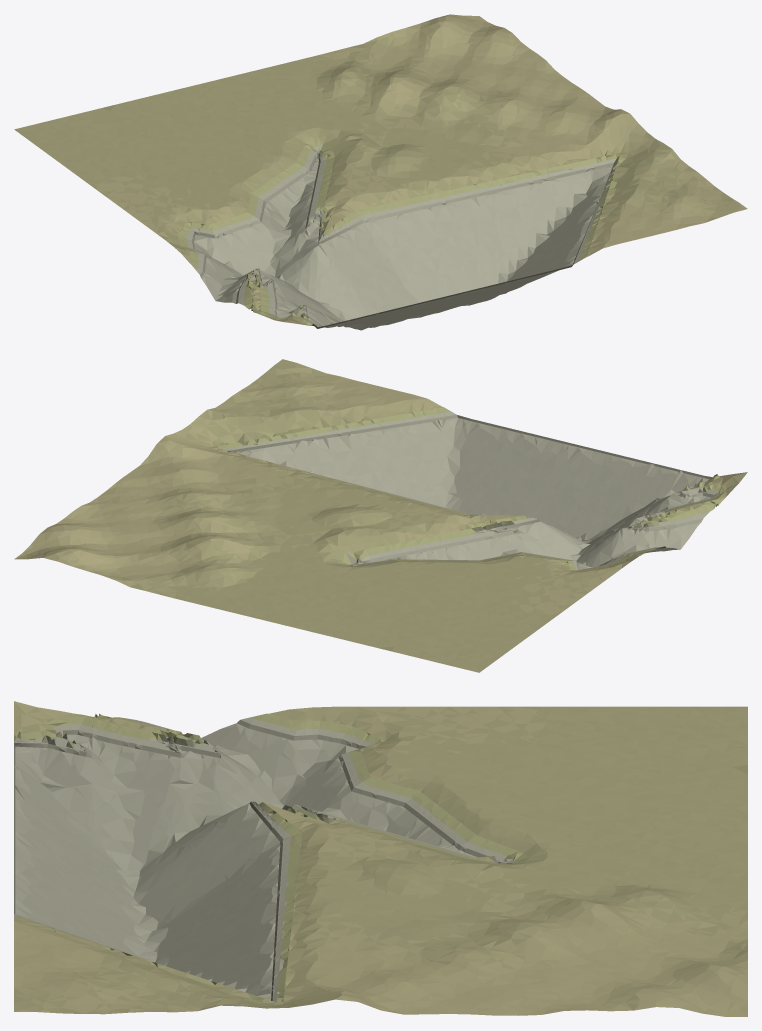
Rendered from Ground_1_-2.glb.
3 views of the same model, one above another, from view 1: azimuth 30°, elevation 25°; view 2: azimuth 150°, elevation 25°; view 3: azimuth 270°, elevation 25° (orthographic). The views are drawn at different scales.
Visible parts, largest first — view 1: Ground_1_-2; view 2: Ground_1_-2; view 3: Ground_1_-2.
Part boxes in pixels (x1,y1,x2,y2): Ground_1_-2: (14, 14, 747, 330); Ground_1_-2: (14, 359, 747, 672); Ground_1_-2: (14, 701, 747, 1016).
Bounding box in the file's own units: 768 × 132 × 768.
